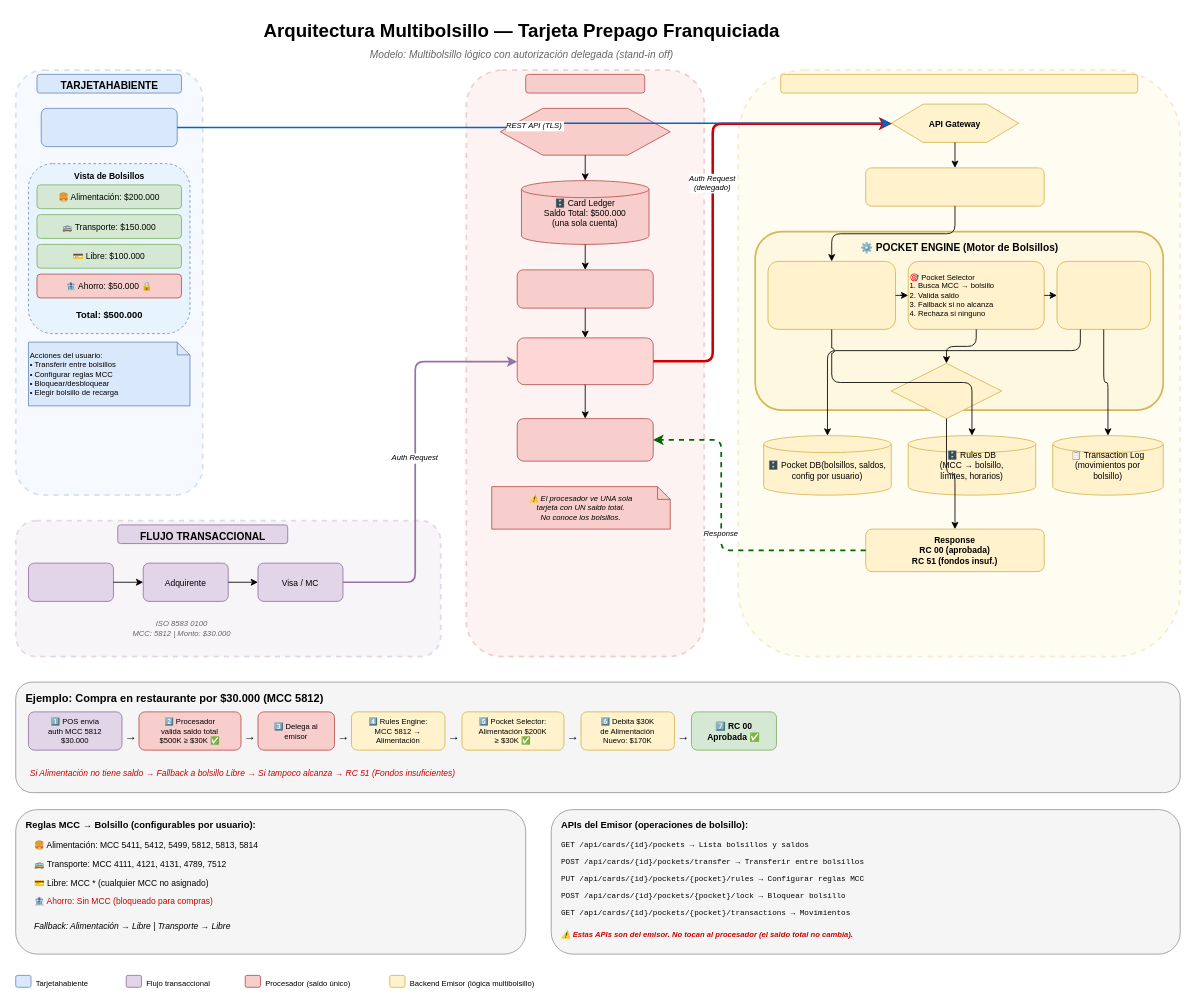
The diagram is 1195 pixels wide and 1003 high, and some of its shapes have lost their labels. The shapes that lost their labels are listed below. From the top down, each one's box as (x1, y1, x2, y2) in pixels, then its label:
(525, 74, 645, 93): PROCESADOR
(780, 74, 1138, 93): BACKEND EMISOR (Lógica de Multibolsillo)
(40, 108, 177, 147): 📱 App Móvil
(499, 108, 670, 155): API Procesador (Auth Request)
(865, 167, 1044, 206): 🔀 Transaction Router (recibe auth request delegado)
(516, 269, 653, 308): Auth Engine (valida saldo total)
(767, 261, 895, 329): 📋 Rules Engine • MCC Mapping • Límites diarios • Horarios • Prioridad bolsillos
(1056, 261, 1150, 329): 💰 Balance Manager • Debita bolsillo • Registra movimiento • Actualiza saldos
(516, 337, 653, 385): 🔀 Delegación al Emisor (stand-in OFF)
(890, 363, 1002, 419): ¿Bolsillo tiene saldo?
(516, 418, 653, 461): 📡 Webhook Notificación post-auth
(28, 562, 113, 601): 🏪 POS Comercio
